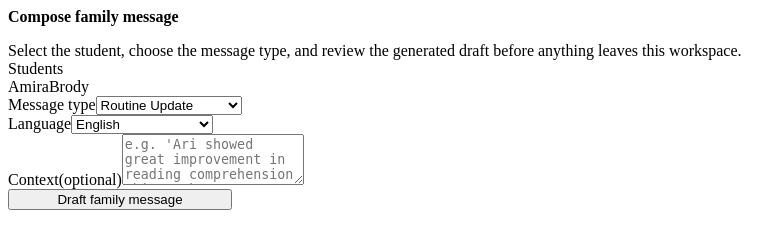
Scenario: MessageComposer › submits the selected student from an explicit toggle control
Later steps or results of the test are not shown.
Step 1. Click the button with test id "message-student-chip-Amira" → (28, 87), box [8,78,49,96]
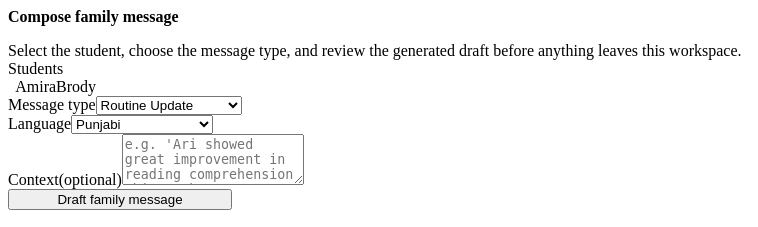
expect the button with test id "message-student-chip-Amira" is pressed: met, box [8,78,56,96]
